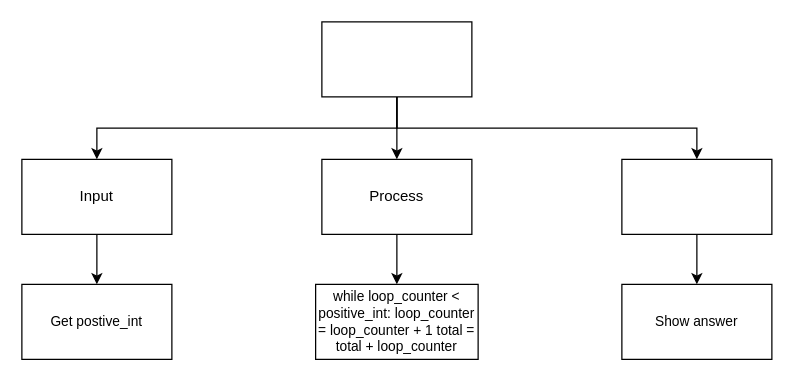
Some shapes in this 794 by 381 pixel diagram are drawn without their labels. Here are the shapes that lost their labels. From the top down, the box of each, then its label:
(321, 21, 472, 97): loop adding
(621, 158, 772, 234): Output
